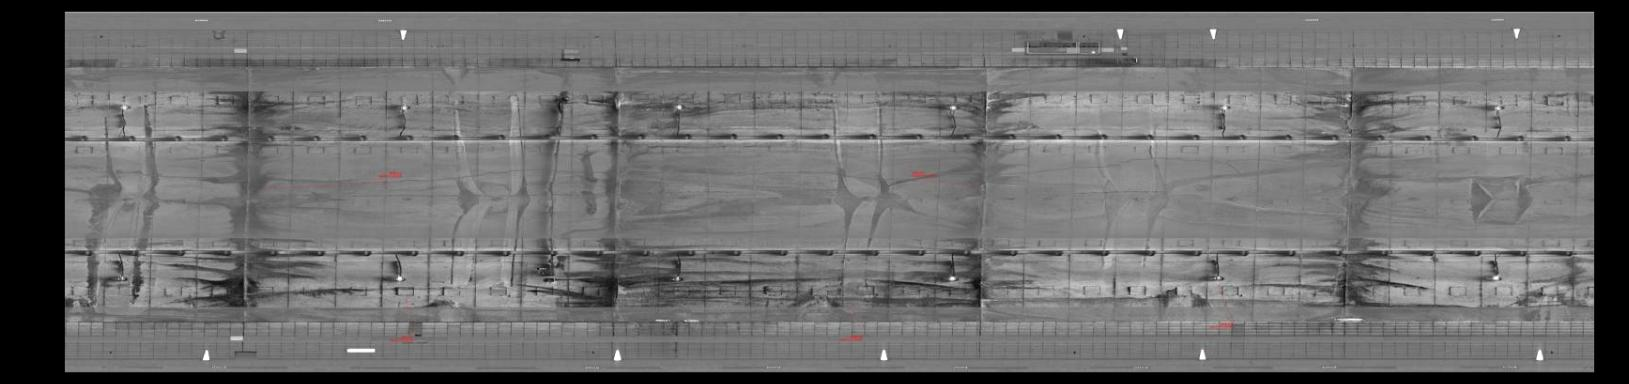light: (392, 101, 416, 115), (1487, 271, 1506, 286), (1488, 99, 1508, 112), (1207, 271, 1228, 284), (941, 101, 965, 112), (389, 271, 408, 284), (115, 100, 134, 113), (112, 271, 130, 284), (1212, 101, 1232, 112), (944, 272, 962, 284), (670, 102, 689, 113), (668, 274, 689, 283)
